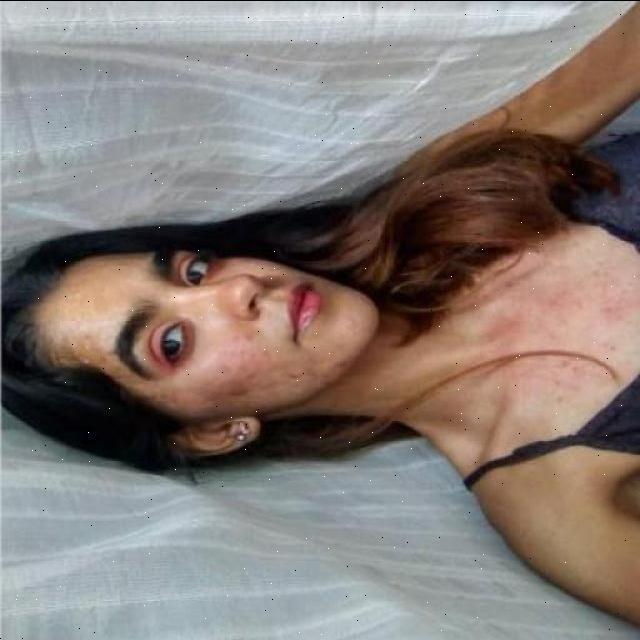Acne: (214, 332, 316, 394)
